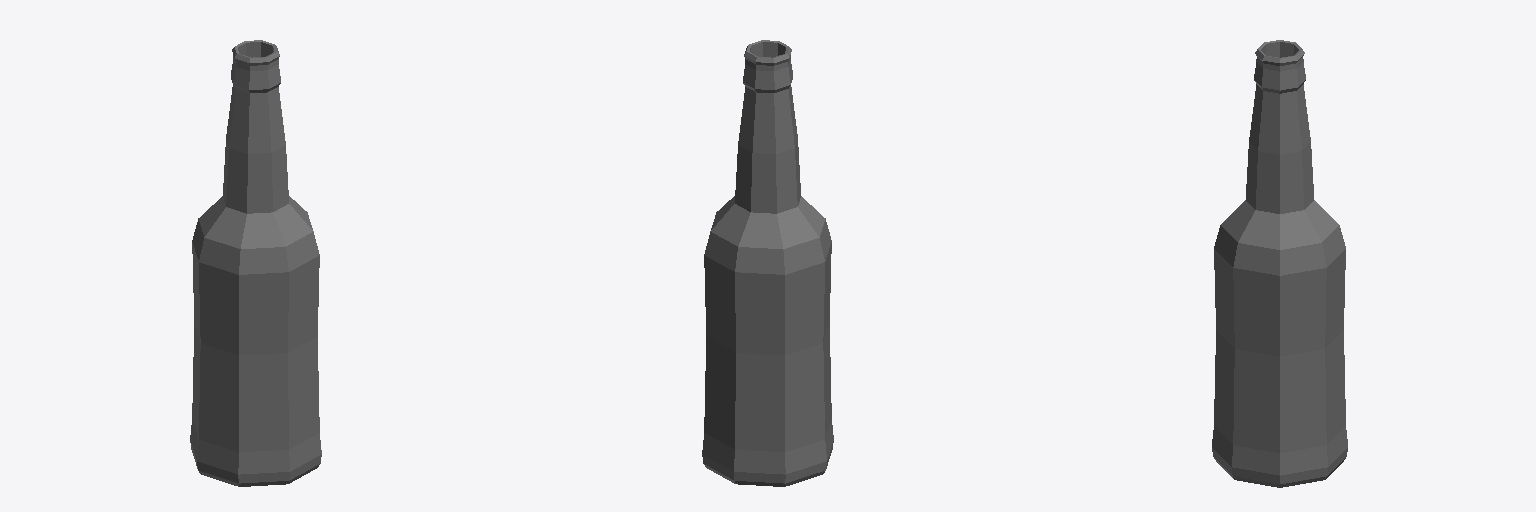
Rendered from Bottle2.obj.
The picture shows the model from 3 angles: view 1: azimuth 30°, elevation 25°; view 2: azimuth 150°, elevation 25°; view 3: azimuth 270°, elevation 25°; orthographic projection.
Parts seen in each view (by area): view 1: textureEditorIsolateSelectSet pCylinder1, pCylinder1; view 2: textureEditorIsolateSelectSet pCylinder1, pCylinder1; view 3: textureEditorIsolateSelectSet pCylinder1, pCylinder1.
Part boxes in pixels (x1,y1,x2,y2): textureEditorIsolateSelectSet pCylinder1: (190,46,321,486); pCylinder1: (235,40,277,57); textureEditorIsolateSelectSet pCylinder1: (702,46,833,486); pCylinder1: (746,40,788,57); textureEditorIsolateSelectSet pCylinder1: (1212,49,1347,487); pCylinder1: (1258,40,1301,58).
Size of the model in its own units: 7.93 by 26.51 by 7.93.